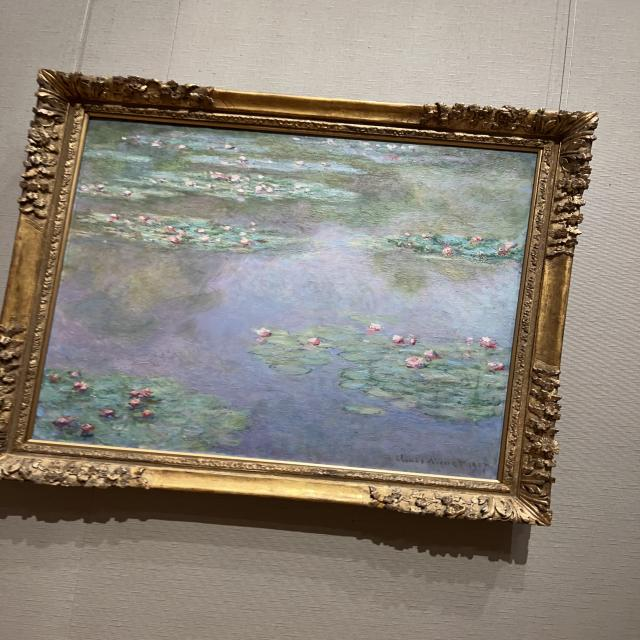lilies: (32, 119, 535, 476)
